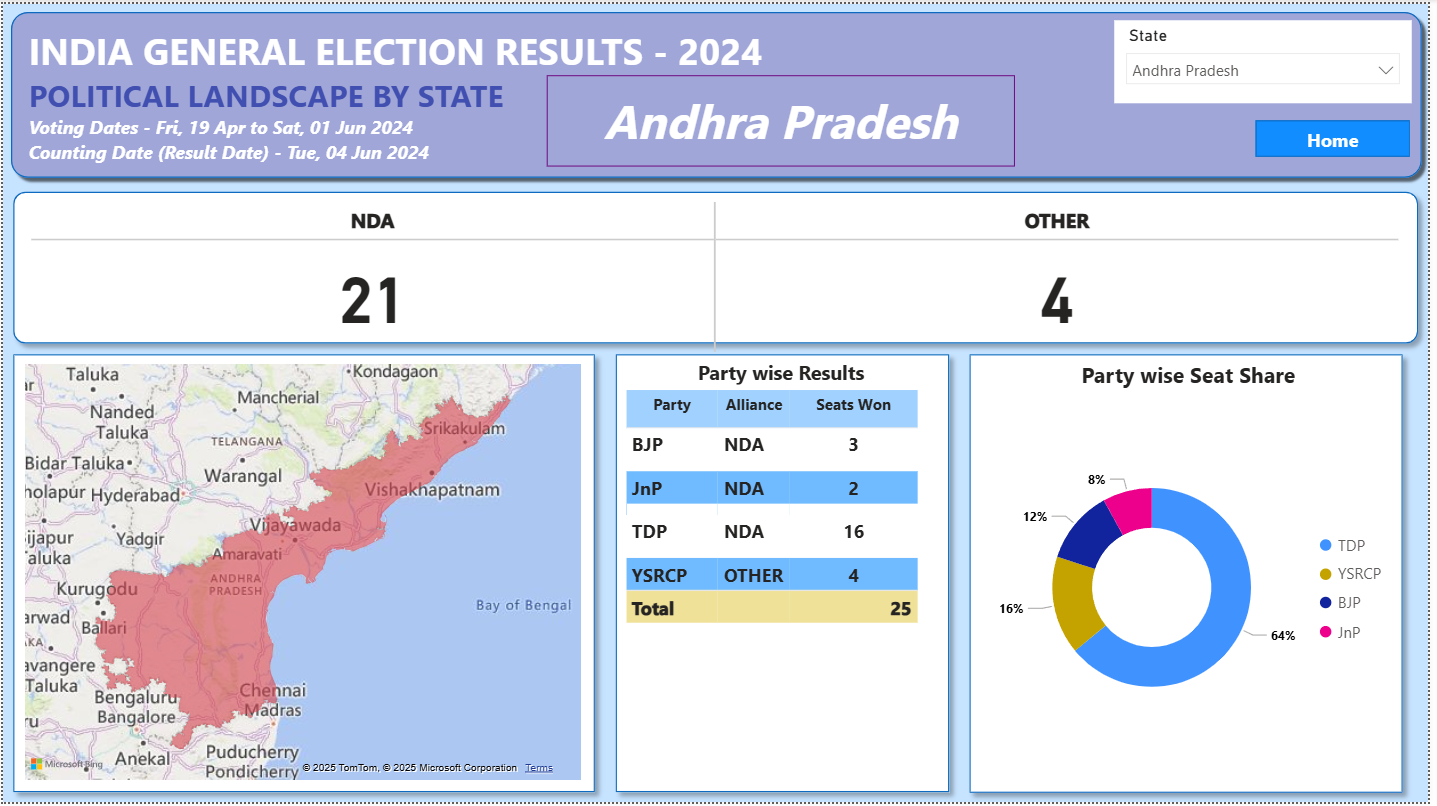

The dashboard page shown, as its layout file describes it:
{"tool":"powerbi","page":{"name":"POLITICAL LANDSCAPE BY STATE","canvas":[1250,700],"ordinal":3},"visuals":[{"type":"shape","box":[0,0,1250.7,159.3],"z":0},{"type":"textbox","box":[17.8,14.3,700.2,145],"z":1000},{"type":"shape","box":[0,155.7,1249.5,151],"z":2000},{"type":"cardVisual","fields":{"Data":["CountNonNull(constituencywise_results.Constituency Name)"],"Rows":["constituencywise_results.Party Alliance"]},"box":[0,168.8,1249.5,141.5],"z":3000},{"type":"shape","box":[0,298.4,527.9,401.8],"z":4000},{"type":"filledMap","fields":{"Category":["states.State"],"Series":["states.Winning Alliance Plus"]},"box":[14.3,311.5,498.1,374.5],"z":5000},{"type":"slicer","fields":{"Values":["states.State"]},"box":[974,14.3,260.8,72.6],"z":6000},{"type":"shape","box":[527.9,298.4,310.3,401.8],"z":7000},{"type":"tableEx","title":"Party wise Results","fields":{"Values":["constituencywise_results.Party Shortagain","constituencywise_results.Party Alliance","CountNonNull(constituencywise_results.Constituency Name)"]},"box":[540.6,310.8,283.4,375.1],"z":8000},{"type":"shape","box":[838.3,297.7,397.7,402.5],"z":9000},{"type":"donutChart","title":"Party wise Seat Share","fields":{"Category":["constituencywise_results.Party Shortagain"],"Y":["CountNonNull(constituencywise_results.Constituency Name)"]},"box":[856.1,312,366.7,373.9],"z":10000},{"type":"card","fields":{"Values":["Min(states.State)"]},"box":[476.3,61.9,410.8,79.8],"z":11000},{"type":"shape","box":[1098.5,102.2,135.5,32.1],"z":12000}]}

Visuals, with their boxes in screenshot pixels (x1, y1, x2, y2), scaled from the page's 1250x700 canvas onto the 1437x806 screenshot:
shape: [0, 0, 1436, 183]
textbox: [20, 16, 825, 183]
shape: [0, 179, 1436, 353]
cardVisual - CountNonNull(constituencywise_results.Constituency Name) x constituencywise_results.Party Alliance: [0, 194, 1436, 357]
shape: [0, 344, 607, 805]
filledMap - states.State x states.Winning Alliance Plus: [16, 359, 589, 790]
slicer - states.State: [1120, 16, 1420, 100]
shape: [607, 344, 964, 805]
"Party wise Results" tableEx: [621, 358, 947, 790]
shape: [964, 343, 1421, 805]
"Party wise Seat Share" donutChart: [984, 359, 1406, 790]
card - Min(states.State): [548, 71, 1020, 163]
shape: [1263, 118, 1419, 155]
